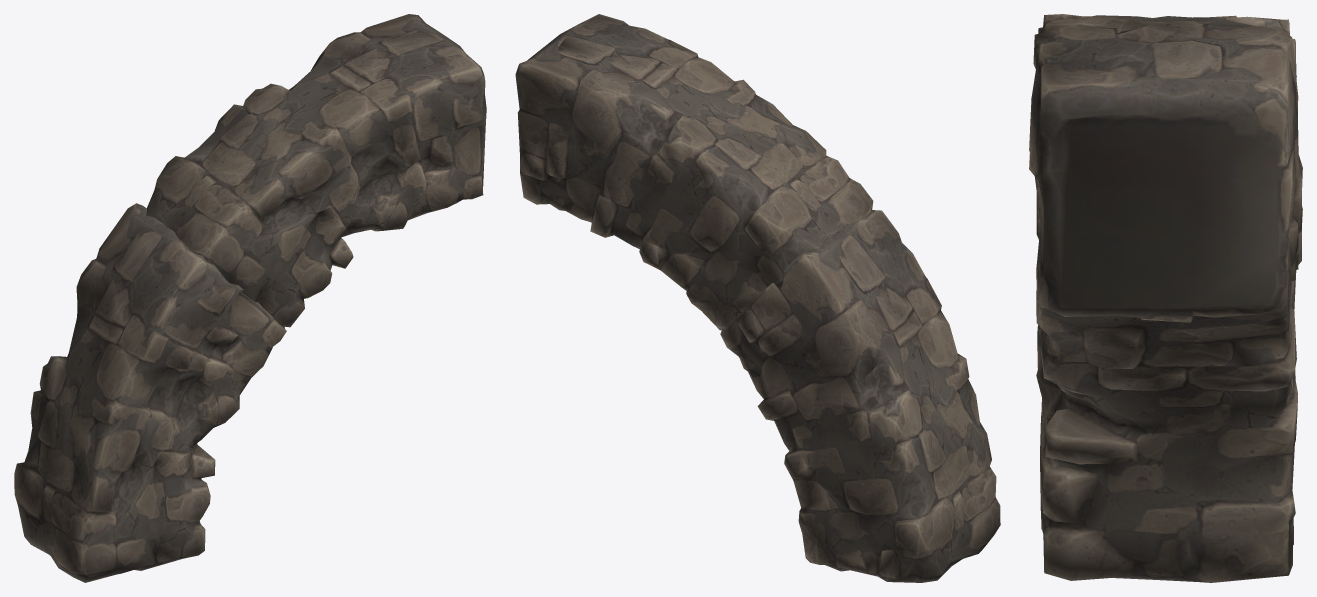
File: Pillar_Bent_Dark.fbx
3 renders of one model, left to right at view 1: azimuth 30°, elevation 25°; view 2: azimuth 150°, elevation 25°; view 3: azimuth 270°, elevation 25°, orthographic. The views are drawn at different scales.
Visible parts, largest first — view 1: Dn_HL_UND_Pillars_Bent_01.001; view 2: Dn_HL_UND_Pillars_Bent_01.001; view 3: Dn_HL_UND_Pillars_Bent_01.001.
Part boxes in pixels (box(x1,y1,x2,y2)): Dn_HL_UND_Pillars_Bent_01.001: box(14, 14, 486, 582); Dn_HL_UND_Pillars_Bent_01.001: box(515, 14, 1000, 582); Dn_HL_UND_Pillars_Bent_01.001: box(1029, 14, 1302, 582).
Bounding box in the file's own units: 10491 × 10462 × 3517.
